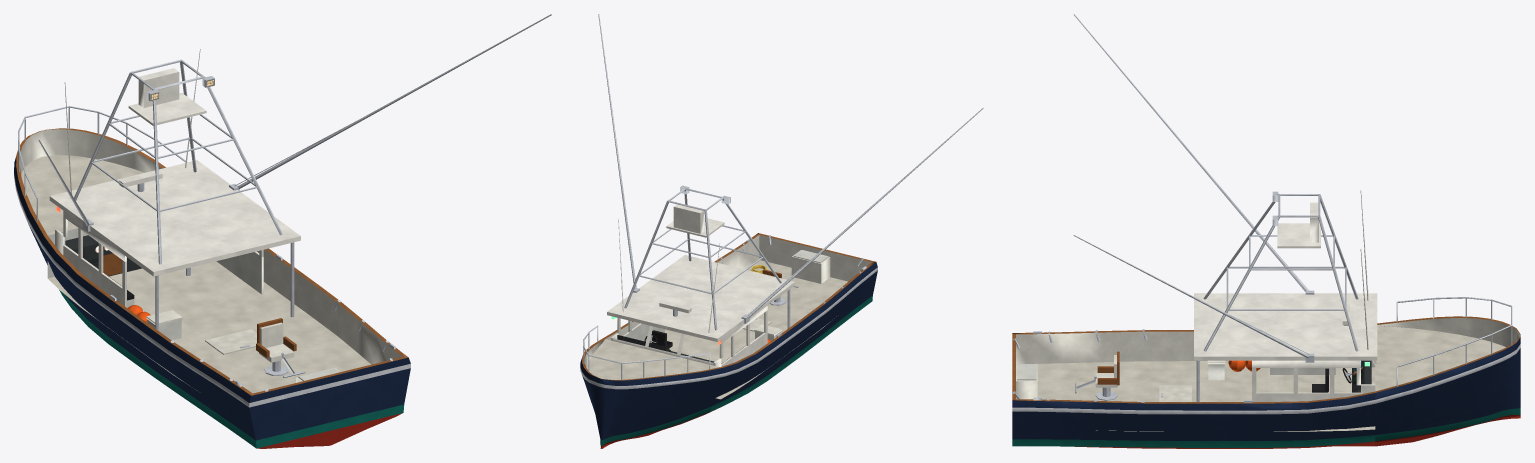
The model's file is boat.glb.
3 renders of one model, left to right at view 1: azimuth 30°, elevation 25°; view 2: azimuth 150°, elevation 25°; view 3: azimuth 270°, elevation 25°, orthographic. The views are drawn at different scales.
Visible parts, largest first — view 1: boat, chair, box_lid; view 2: boat; view 3: boat, chair, box_lid.
Boxes of the visible parts, bbox=[...] form: boat: bbox=[14, 14, 551, 448]; chair: bbox=[256, 318, 305, 377]; box_lid: bbox=[205, 329, 256, 354]; boat: bbox=[580, 14, 983, 448]; boat: bbox=[1012, 14, 1520, 448]; chair: bbox=[1075, 351, 1119, 400]; box_lid: bbox=[1159, 385, 1191, 401].
Size of what is drawn, in the model's own units: 14.43 by 9.76 by 14.
Materials: 23 (21 with a texture image).
